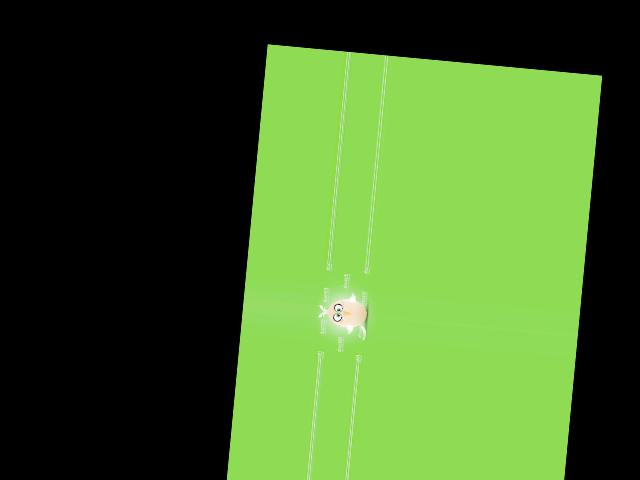egg: (327, 298, 368, 329)
